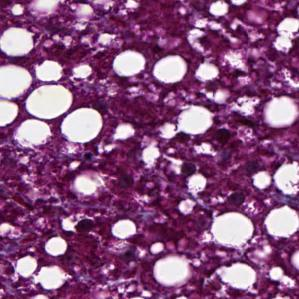steatosis: (207, 211, 259, 248), (60, 108, 108, 145), (150, 252, 196, 290), (26, 86, 73, 120), (177, 103, 217, 136), (0, 23, 35, 59), (220, 261, 260, 291), (115, 44, 145, 84), (15, 118, 53, 149), (153, 53, 189, 84), (267, 203, 298, 236), (265, 96, 298, 126), (41, 232, 70, 259), (39, 266, 69, 291), (112, 218, 141, 240), (14, 255, 37, 279)
